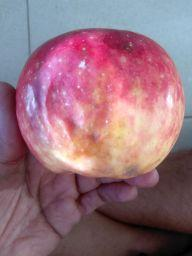Apple Semirotten: (7, 22, 192, 180)
